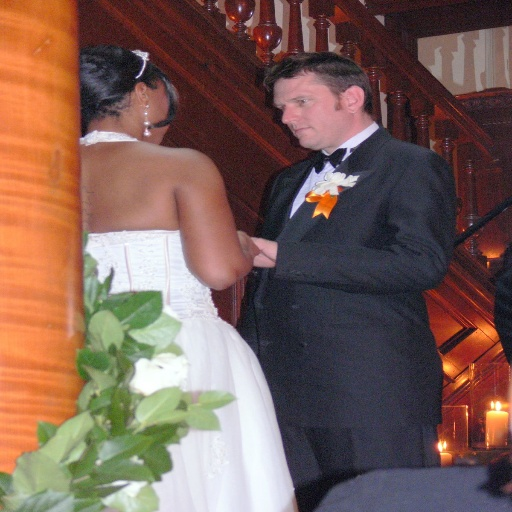hand: (250, 239, 277, 268), (238, 228, 261, 253)
